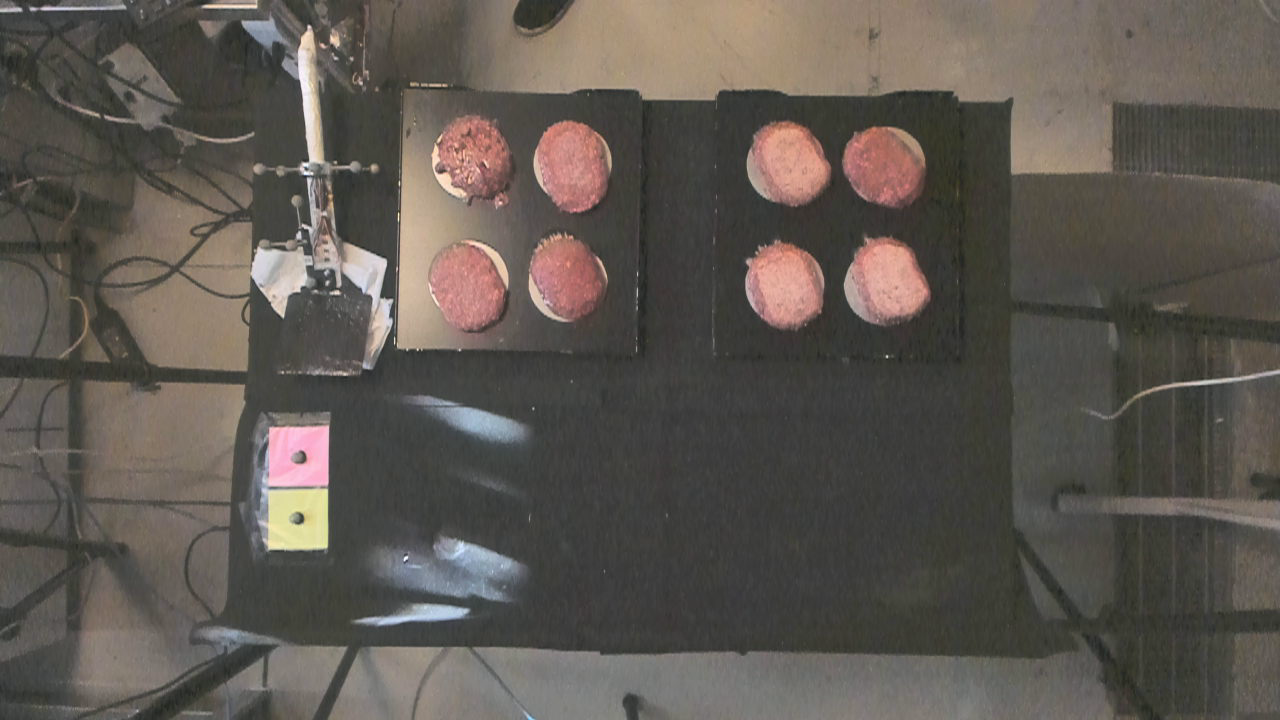hamburger: (841, 123, 928, 213), (853, 230, 933, 327), (425, 245, 511, 334), (750, 115, 833, 206), (529, 238, 610, 324), (538, 113, 608, 212), (752, 240, 825, 333), (438, 113, 515, 200)
marker: (268, 428, 329, 486)
